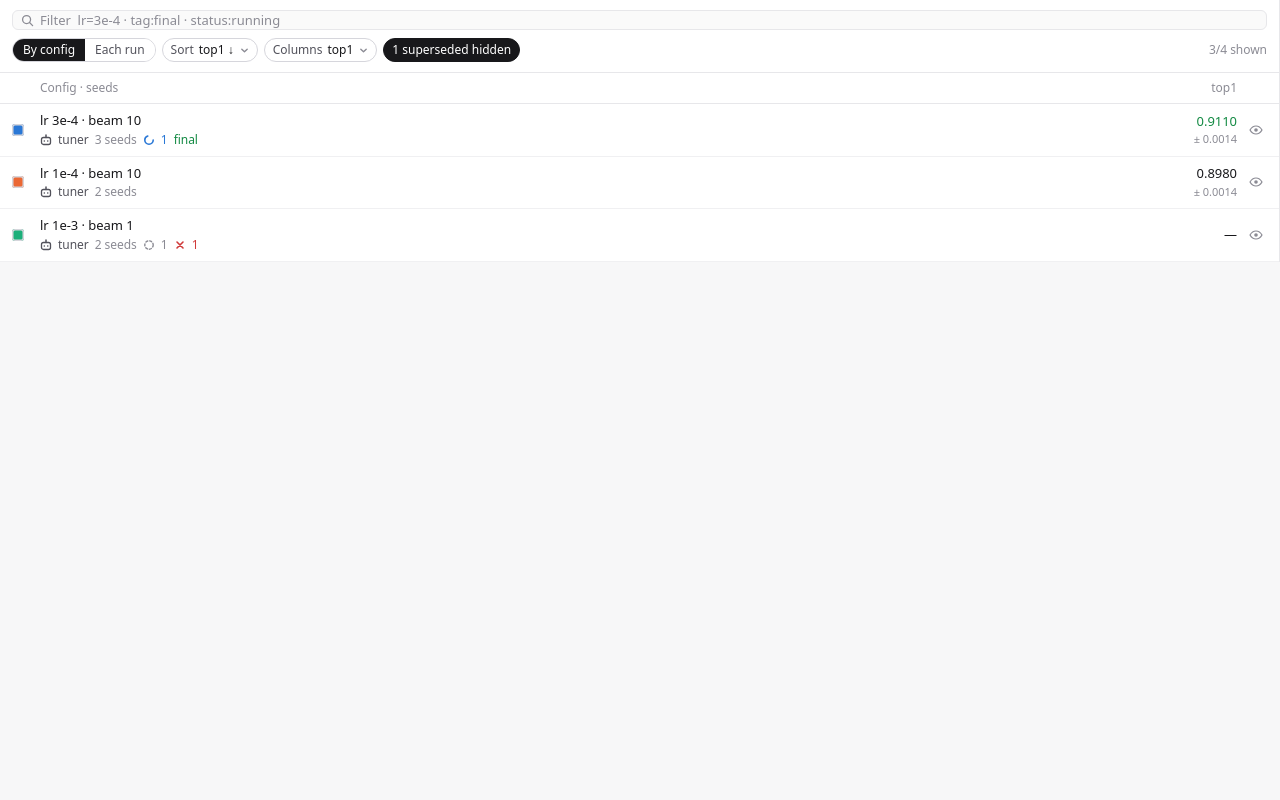
Test: RunsSidebar › a menu closes on Escape and on a press outside it
Click the button "Sort top1 ↓".
click(210, 50)  # box [162,38,258,62]
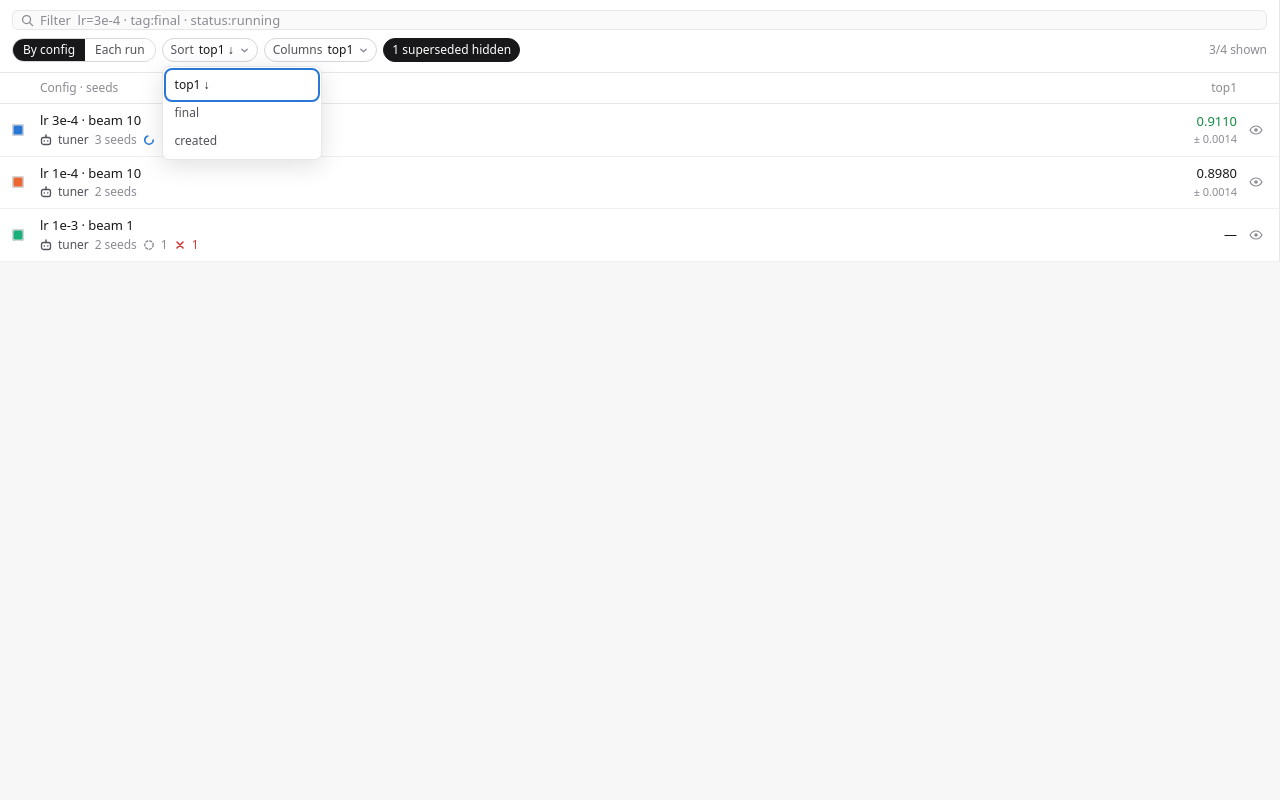
Press Escape in the menu item "final", box [167,99,317,127]
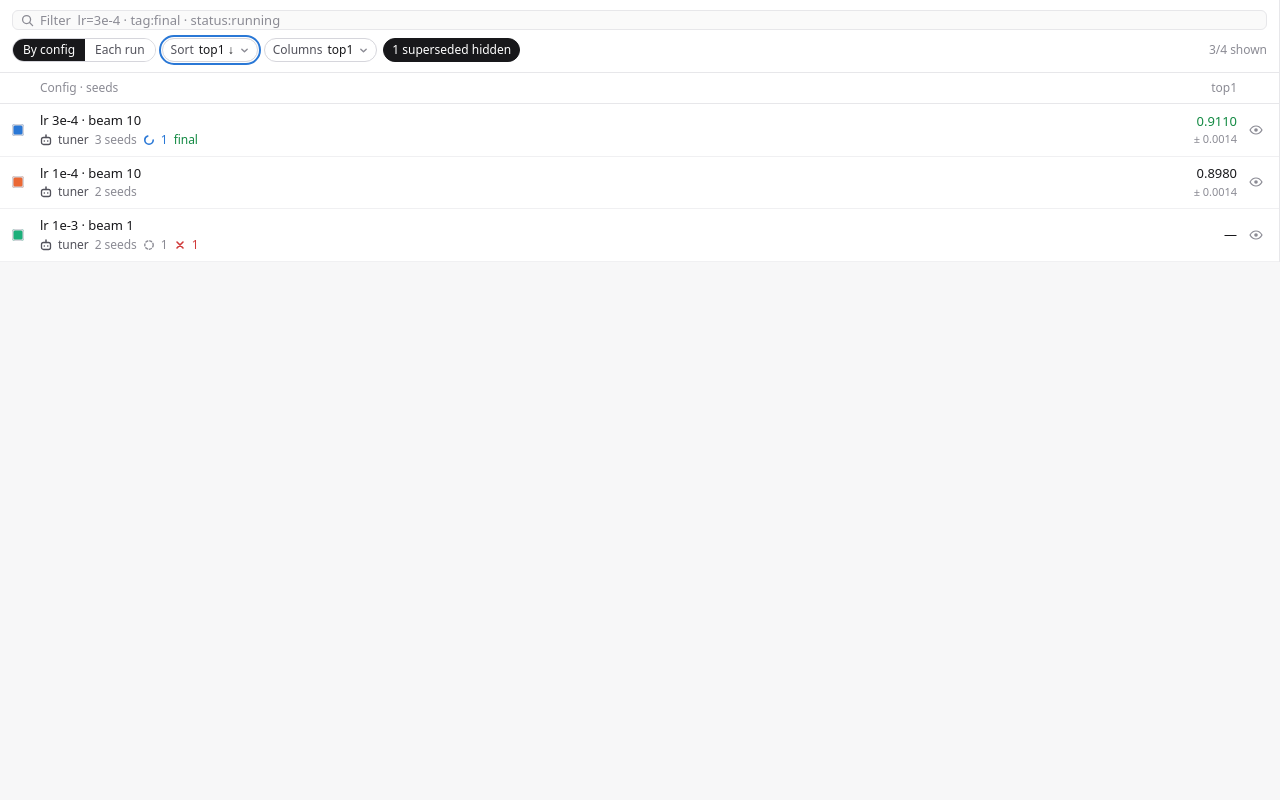
expect the menu is gone: met
Click the button "Sort top1 ↓".
click(210, 50)  # box [162,38,258,62]
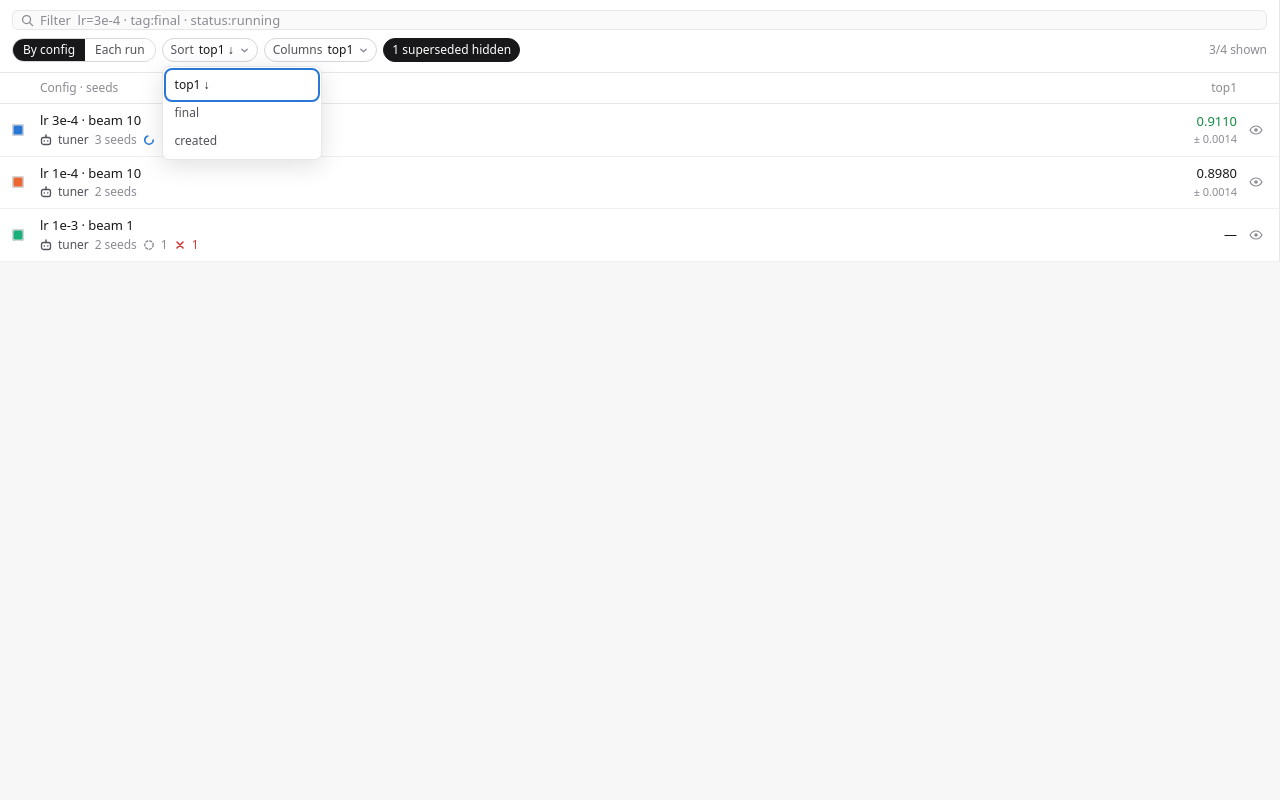
Press the mouse on the element that starts with "By config" at (640, 400), box [0,0,1279,799]
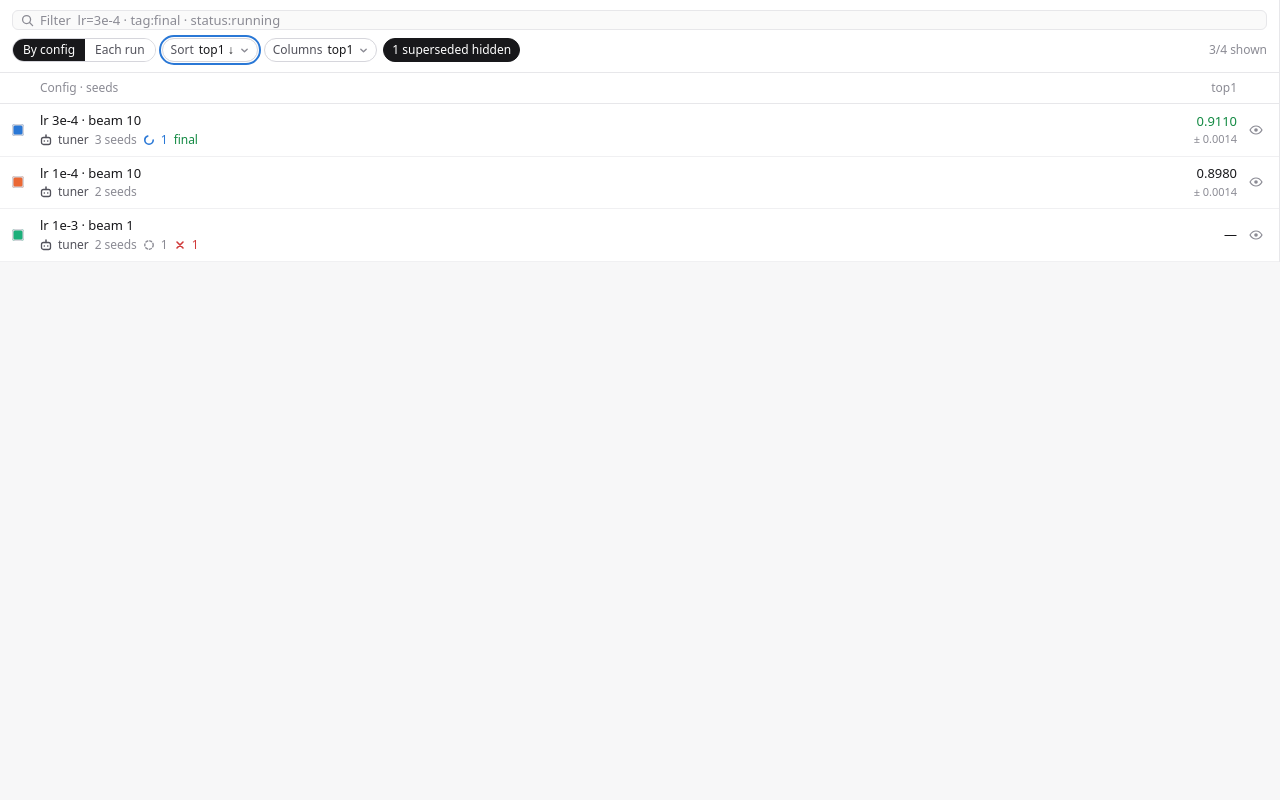
expect the menu is gone: met
